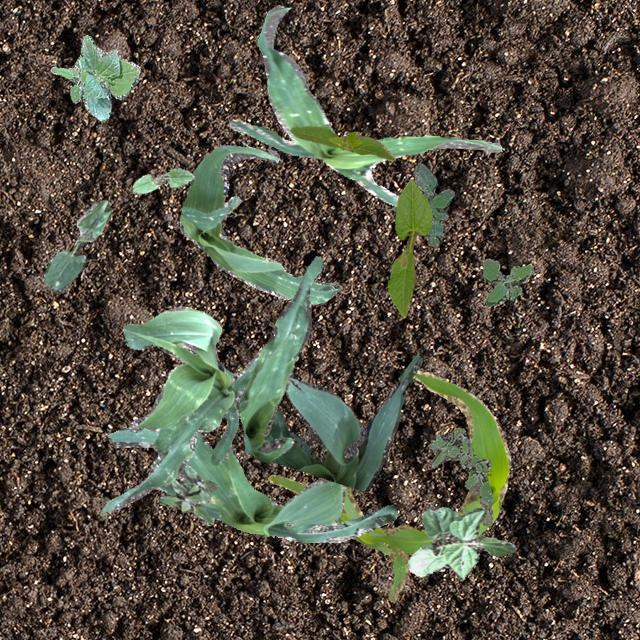crop: (266, 368, 509, 600), (228, 3, 502, 205), (106, 426, 396, 542), (100, 306, 260, 512), (178, 144, 340, 302), (242, 354, 422, 490), (238, 254, 322, 462), (49, 34, 140, 120), (406, 506, 514, 578), (386, 178, 431, 316), (44, 198, 110, 292), (290, 126, 394, 160), (132, 166, 194, 194)
weed: (428, 426, 492, 524), (158, 464, 216, 524), (414, 162, 454, 245), (482, 258, 532, 306)
